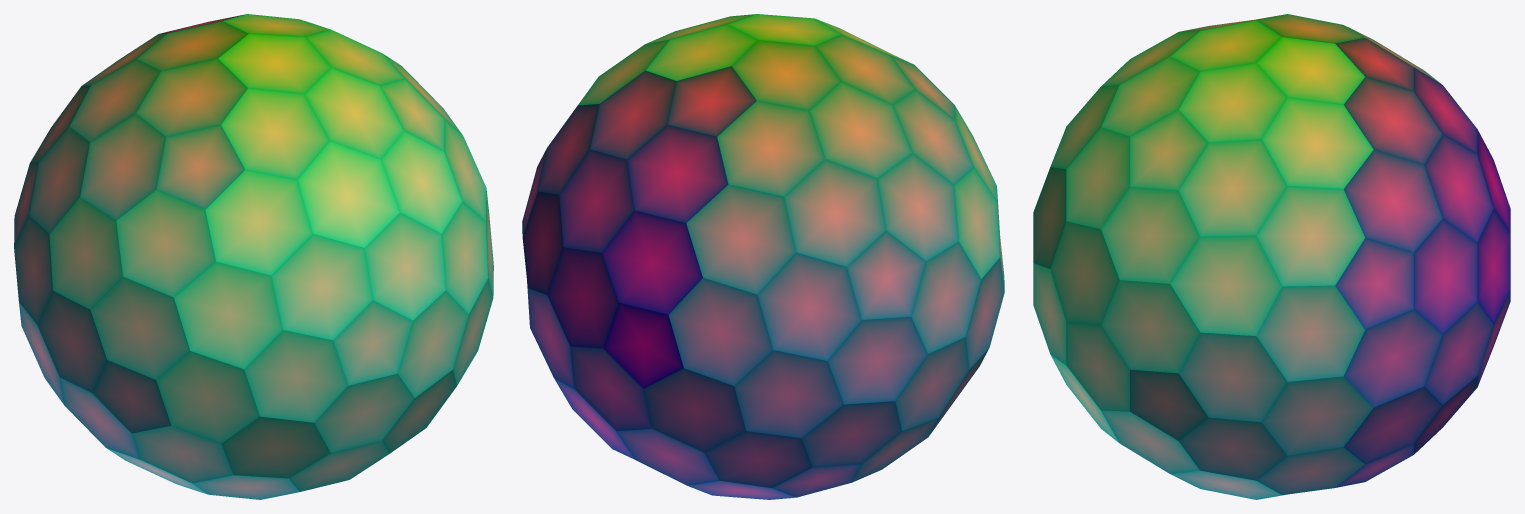
File: ms_barrior02.fbx
3 renders of one model, left to right at view 1: azimuth 30°, elevation 25°; view 2: azimuth 150°, elevation 25°; view 3: azimuth 270°, elevation 25°, orthographic.
Visible parts, largest first — view 1: Mesh_0; view 2: Mesh_0; view 3: Mesh_0.
Part boxes in pixels (x1,y1,x2,y2): Mesh_0: (14, 14, 493, 499); Mesh_0: (522, 14, 1004, 499); Mesh_0: (1033, 14, 1510, 499).
Bounding box in the file's own units: 0.9667 × 0.9706 × 0.9551.
